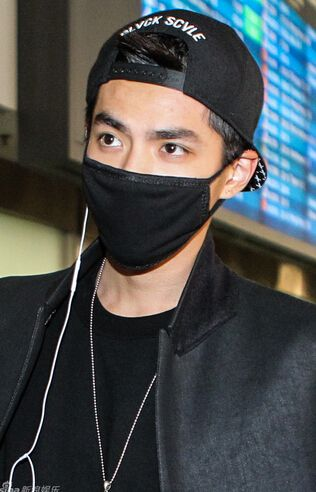face_mask: (85, 59, 219, 263)
